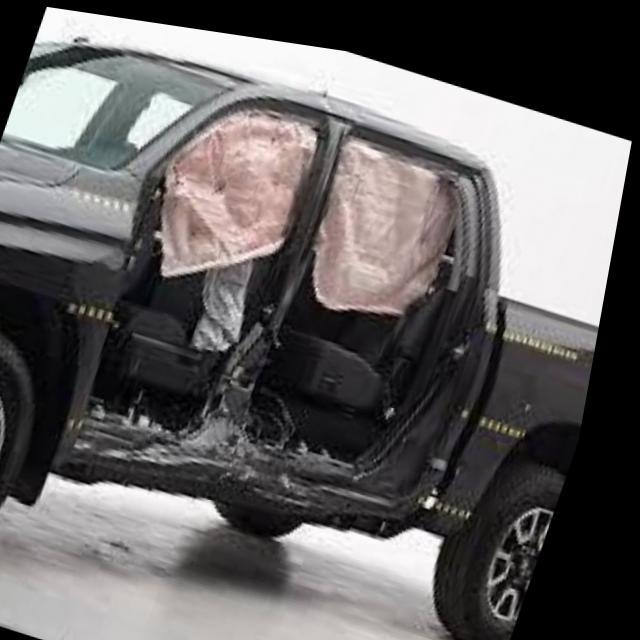no part: (82, 92, 506, 514)
